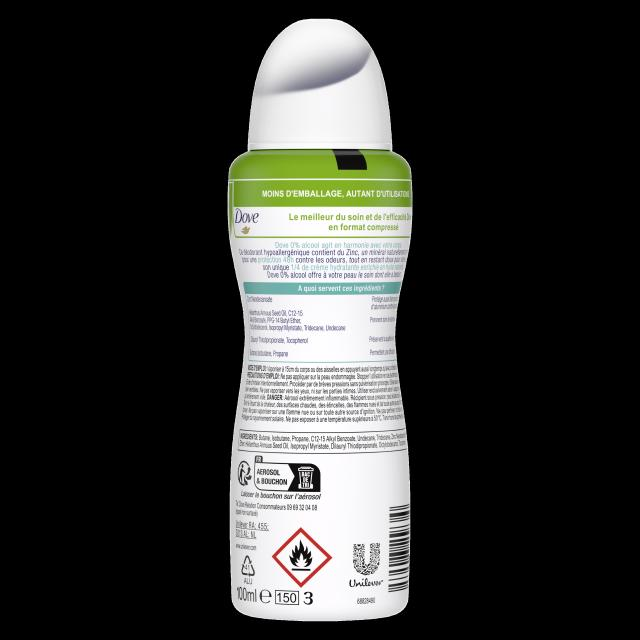GHS_Symbol_FLAME: (272, 526, 332, 588)
